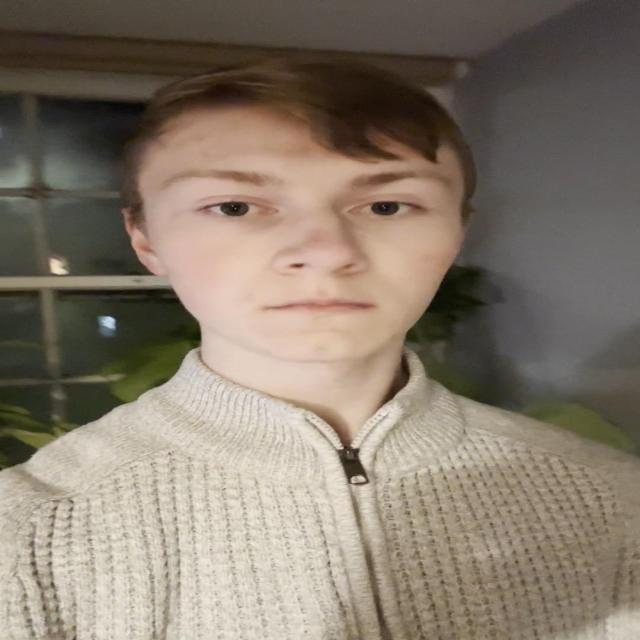no-helmet: (130, 99, 457, 367)
